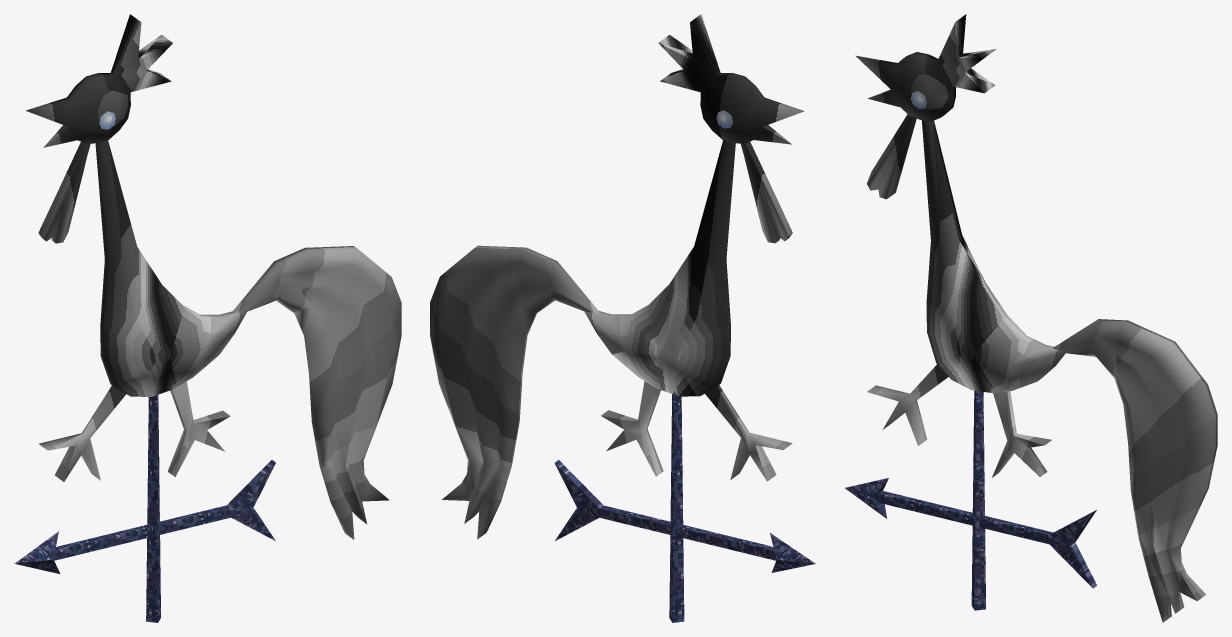
File: weathervane.FBX
3 views of the same model, side by side, from view 1: azimuth 30°, elevation 25°; view 2: azimuth 150°, elevation 25°; view 3: azimuth 330°, elevation 25° (orthographic). The views are drawn at different scales.
Parts seen in each view (by area): view 1: n0b0, n1b1; view 2: n0b0, n1b1; view 3: n0b0, n1b1.
Part boxes in pixels (x1=…): n0b0: x1=26, y1=14, x2=401, y2=539; n1b1: x1=14, y1=111, x2=275, y2=622; n0b0: x1=430, y1=14, x2=804, y2=539; n1b1: x1=554, y1=110, x2=815, y2=622; n0b0: x1=855, y1=14, x2=1217, y2=622; n1b1: x1=845, y1=91, x2=1096, y2=610.
Size of the model in its own units: 83.88 by 126 by 8.81.
